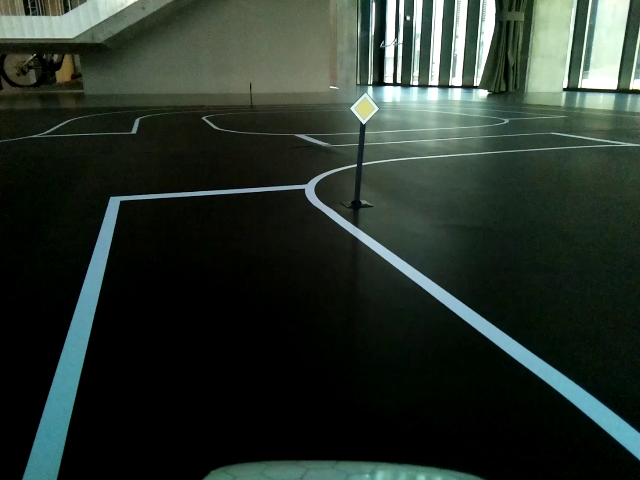priority: (349, 93, 379, 124)
